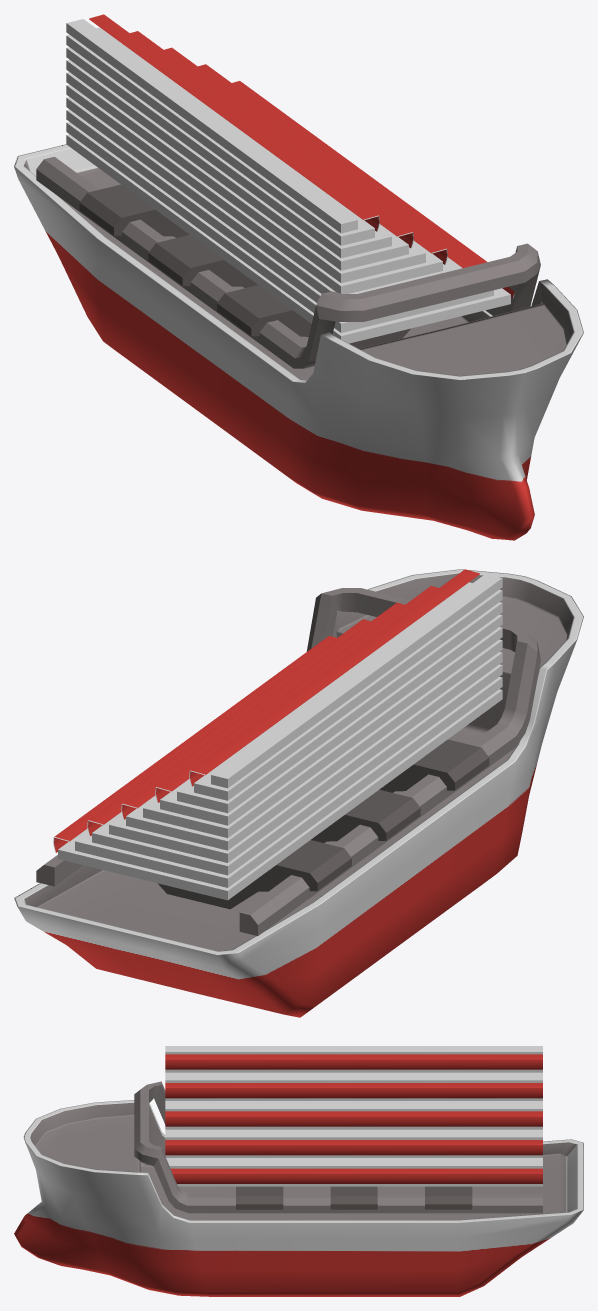
File: SMshipV0.1.fbx
The picture shows the model from 3 angles, top to bottom: view 1: azimuth 30°, elevation 25°; view 2: azimuth 150°, elevation 25°; view 3: azimuth 270°, elevation 25°; orthographic projection. The views are drawn at different scales.
Visible parts, largest first — view 1: Boat; view 2: Boat; view 3: Boat.
Boxes of the visible parts, box(x1,y1,x2,y2) form: Boat: box(14, 14, 583, 540); Boat: box(14, 569, 583, 1017); Boat: box(14, 1046, 583, 1296).
Bounding box in the file's own units: 800 × 900 × 2414.
Materials: 1 (1 with a texture image).
